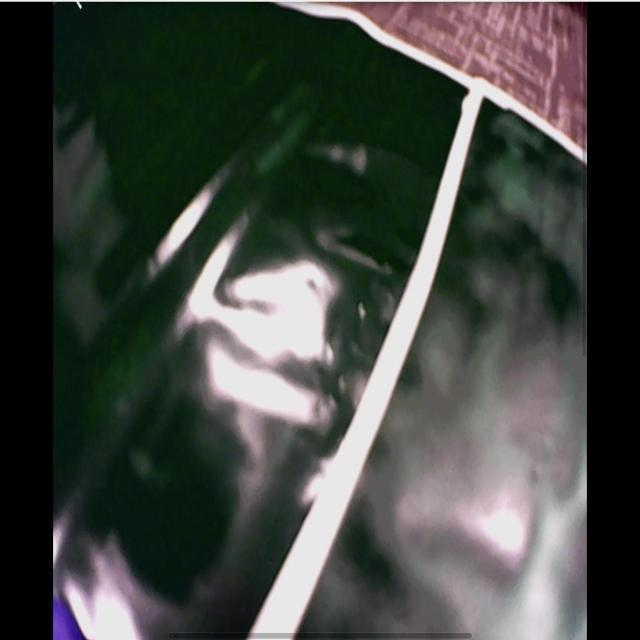ball: (55, 593, 87, 640)
